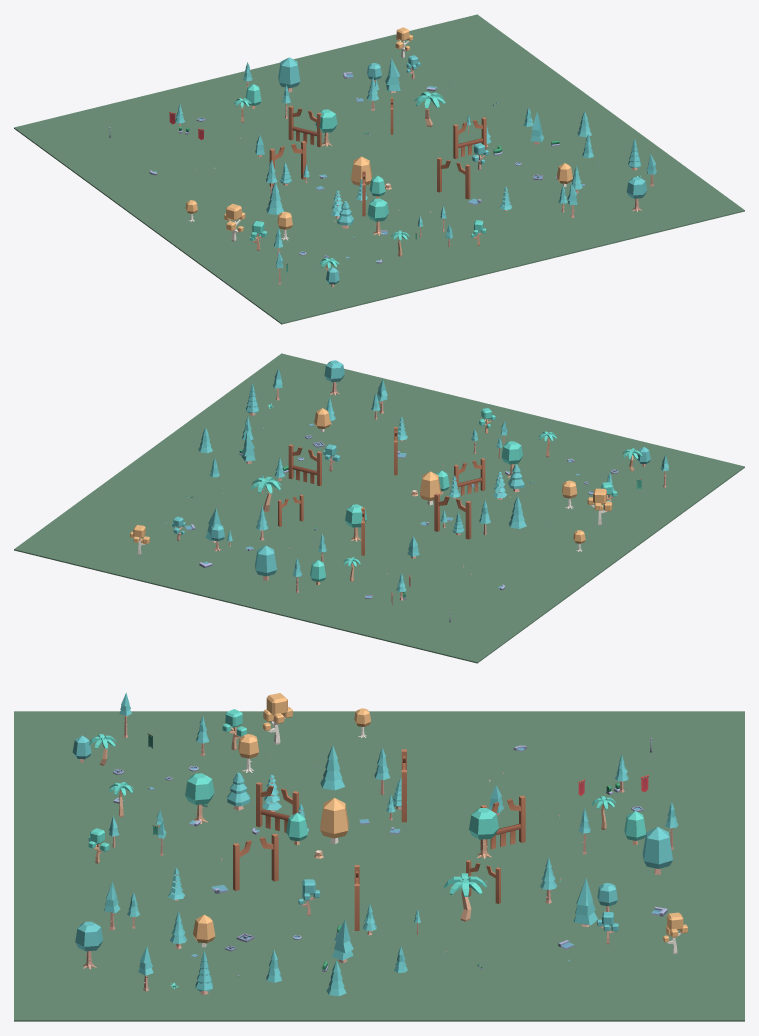
The model's file is world.glb.
3 renders of one model, top to bottom at view 1: azimuth 30°, elevation 25°; view 2: azimuth 150°, elevation 25°; view 3: azimuth 270°, elevation 25°, orthographic. The views are drawn at different scales.
Visible parts, largest first — view 1: Terrain, Treehouse_002_balcony-wall-fence, Treehouse_000_balcony-wall-fence, SpiritTree_043_tree_fat_darkh; view 2: Terrain, Treehouse_000_balcony-wall-fence, Treehouse_003_balcony-wall, Treehouse_004_balcony-wall-fence, SpiritTree_043_tree_fat_darkh, SpiritTree_009_tree_fat_fall; view 3: Terrain, SpiritTree_043_tree_fat_darkh, SpiritTree_009_tree_fat_fall, Treehouse_004_balcony-wall-fence, Treehouse_002_balcony-wall-fence, SpiritTree_045_tree_oak, Treehouse_005_balcony-wall, SpiritTree_010_tree_oak, SpiritTree_006_tree_detailed_fall, SpiritTree_046_tree_oak_dark, SpiritTree_048_tree_palmDetailedSho, SpiritTree_026_tree_pineSmallB (+6 smaller).
Boxes of the visible parts, x1,y1,x2,y2 form: Terrain: (14,14,744,324); Treehouse_002_balcony-wall-fence: (288,105,321,147); Treehouse_000_balcony-wall-fence: (453,117,486,159); SpiritTree_043_tree_fat_darkh: (278,57,300,92); Terrain: (14,353,744,663); Treehouse_000_balcony-wall-fence: (288,444,321,485); Treehouse_003_balcony-wall: (434,493,471,539); Treehouse_004_balcony-wall-fence: (454,458,485,495); SpiritTree_043_tree_fat_darkh: (255,545,276,580); SpiritTree_009_tree_fat_fall: (420,471,440,505); Terrain: (14,711,744,1021); SpiritTree_043_tree_fat_darkh: (642,827,672,874); SpiritTree_009_tree_fat_fall: (320,798,348,844); Treehouse_004_balcony-wall-fence: (256,782,298,832); Treehouse_002_balcony-wall-fence: (480,795,525,850); SpiritTree_045_tree_oak: (469,808,498,858); Treehouse_005_balcony-wall: (233,833,278,890); SpiritTree_010_tree_oak: (185,773,214,823); SpiritTree_006_tree_detailed_fall: (263,693,292,744); SpiritTree_046_tree_oak_dark: (75,921,102,969); SpiritTree_048_tree_palmDetailedSho: (444,873,486,921); SpiritTree_026_tree_pineSmallB: (573,878,597,927).
Size of the model in its own units: 180 by 14 by 180.
Materials: 136 (21 with a texture image).
